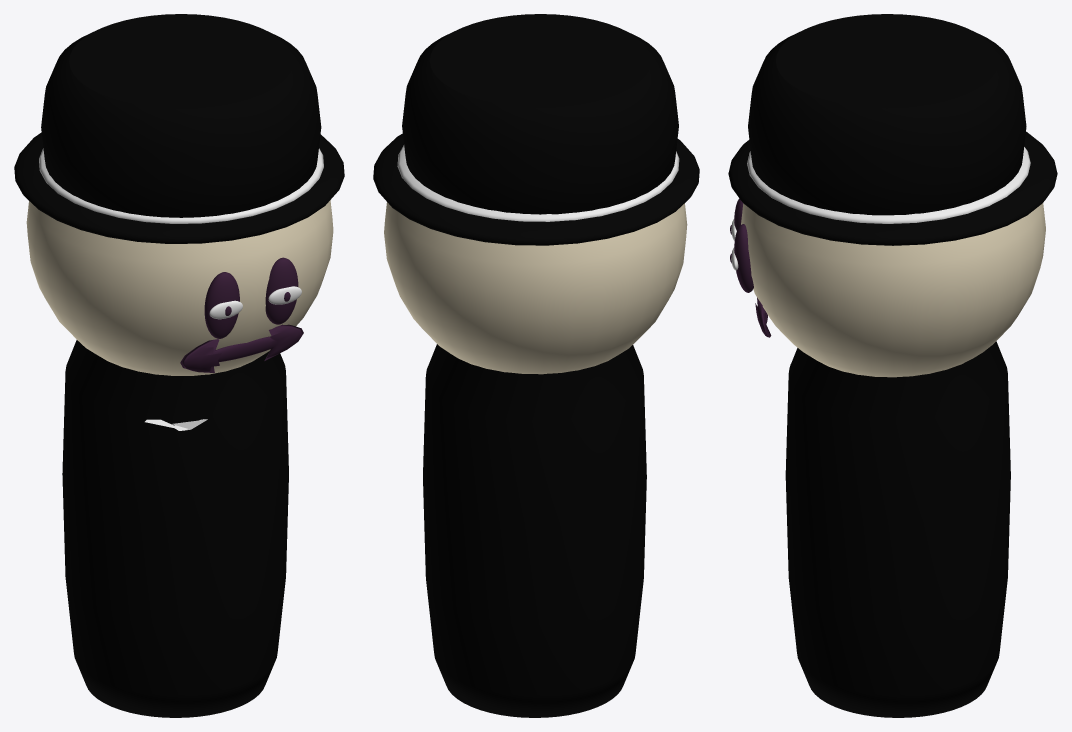
The model's file is Circonspect-kun ++.fbx.
The picture shows the model from 3 angles, left to right: view 1: azimuth 30°, elevation 25°; view 2: azimuth 150°, elevation 25°; view 3: azimuth 270°, elevation 25°; orthographic projection.
Visible parts, largest first — view 1: Torus.008, Torus.009, Sphere.009, Sphere.016, Sphere.010, Sphere.015, Sphere.017; view 2: Torus.008, Torus.009, Sphere.009, Sphere.016, Sphere.017; view 3: Torus.008, Torus.009, Sphere.009, Sphere.016, Sphere.017, Sphere.010.
Boxes of the visible parts, x1,y1,x2,y2 form: Torus.008: (62, 340, 288, 717); Torus.009: (41, 14, 321, 217); Sphere.009: (26, 200, 333, 375); Sphere.016: (14, 132, 344, 243); Sphere.010: (204, 257, 298, 338); Sphere.015: (180, 324, 303, 372); Sphere.017: (39, 148, 323, 223); Torus.008: (423, 344, 646, 717); Torus.009: (402, 14, 678, 214); Sphere.009: (384, 202, 687, 374); Sphere.016: (373, 133, 699, 245); Sphere.017: (397, 145, 679, 221); Torus.008: (785, 341, 1010, 717); Torus.009: (748, 14, 1026, 215); Sphere.009: (741, 203, 1045, 377); Sphere.016: (728, 131, 1057, 245); Sphere.017: (747, 147, 1030, 223); Sphere.010: (734, 198, 753, 292).
Bounding box in the file's own units: 58.41 × 121 × 58.41.
